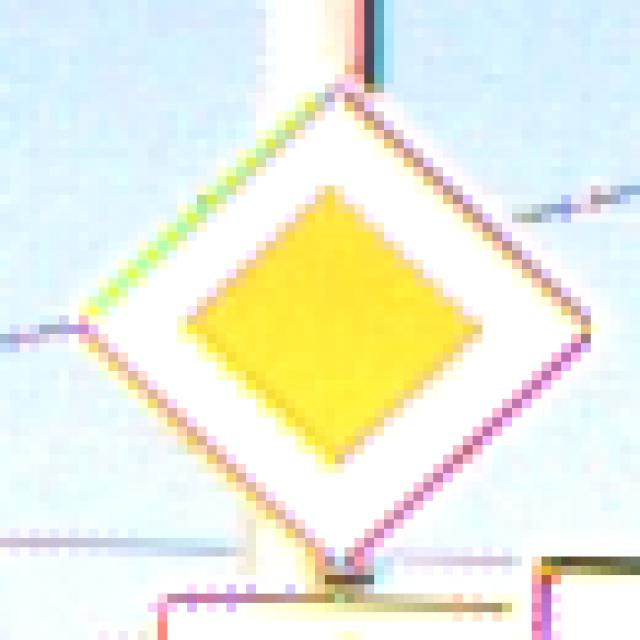Main Road: (60, 66, 592, 585)
